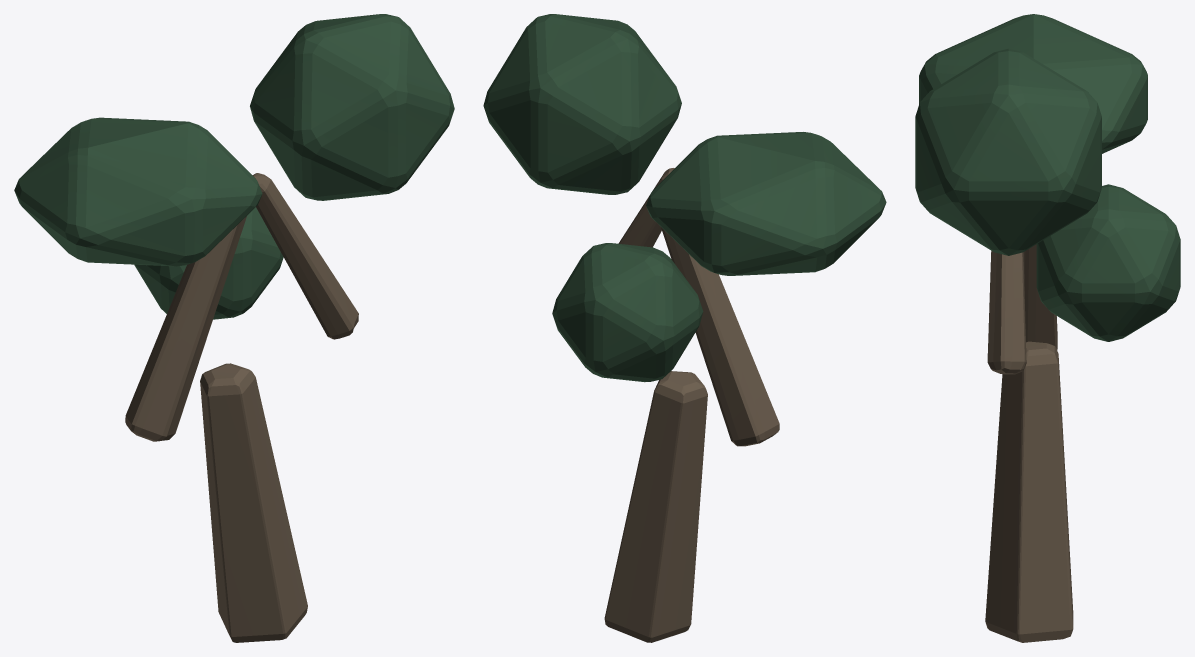
File: prop_juniper.glb
3 renders of one model, left to right at view 1: azimuth 30°, elevation 25°; view 2: azimuth 150°, elevation 25°; view 3: azimuth 270°, elevation 25°, orthographic. The views are drawn at different scales.
Parts seen in each view (by area): view 1: prop_juniper_part_0; view 2: prop_juniper_part_0; view 3: prop_juniper_part_0.
Boxes of the visible parts, left/top/right/bottom form: prop_juniper_part_0: left=14, top=14, right=454, bottom=642; prop_juniper_part_0: left=483, top=14, right=886, bottom=642; prop_juniper_part_0: left=915, top=14, right=1180, bottom=642.
Bounding box in the file's own units: 1.78 × 2.69 × 1.06.
